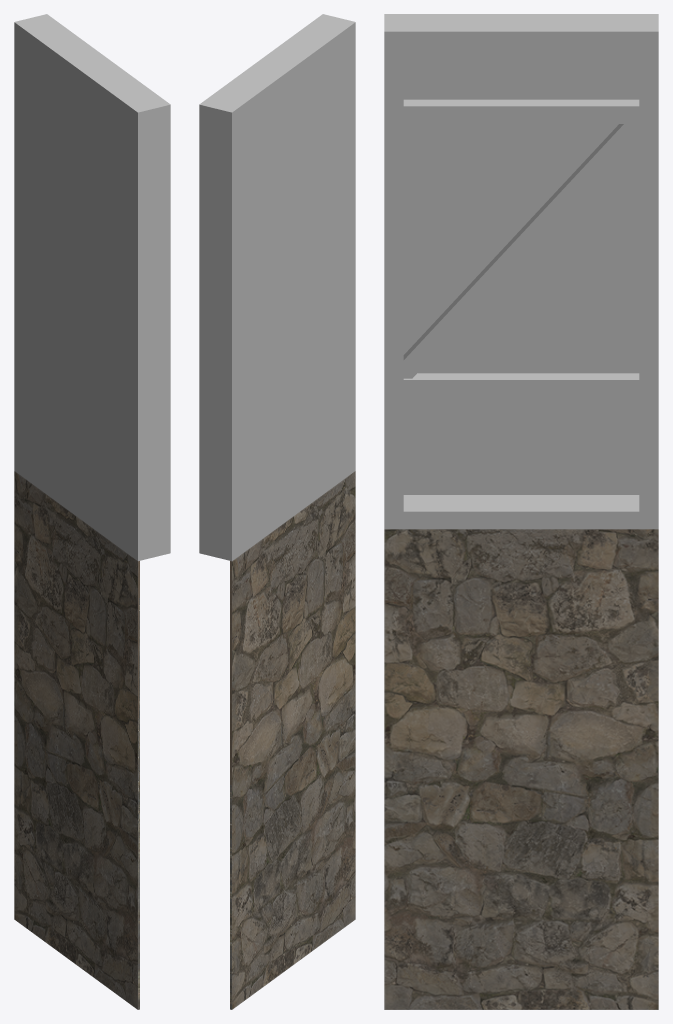
Rendered from HouseWall_1x2_v3.fbx.
The picture shows the model from 3 angles, left to right: view 1: azimuth 30°, elevation 25°; view 2: azimuth 150°, elevation 25°; view 3: azimuth 270°, elevation 25°; orthographic projection. The views are drawn at different scales.
Parts seen in each view (by area): view 1: Plane.105; view 2: Plane.105; view 3: Plane.105.
Part boxes in pixels (x1,y1,x2,y2): Plane.105: (14, 14, 170, 1009); Plane.105: (199, 14, 355, 1009); Plane.105: (384, 14, 658, 1009).
Bounding box in the file's own units: 15.34 × 400 × 100.
